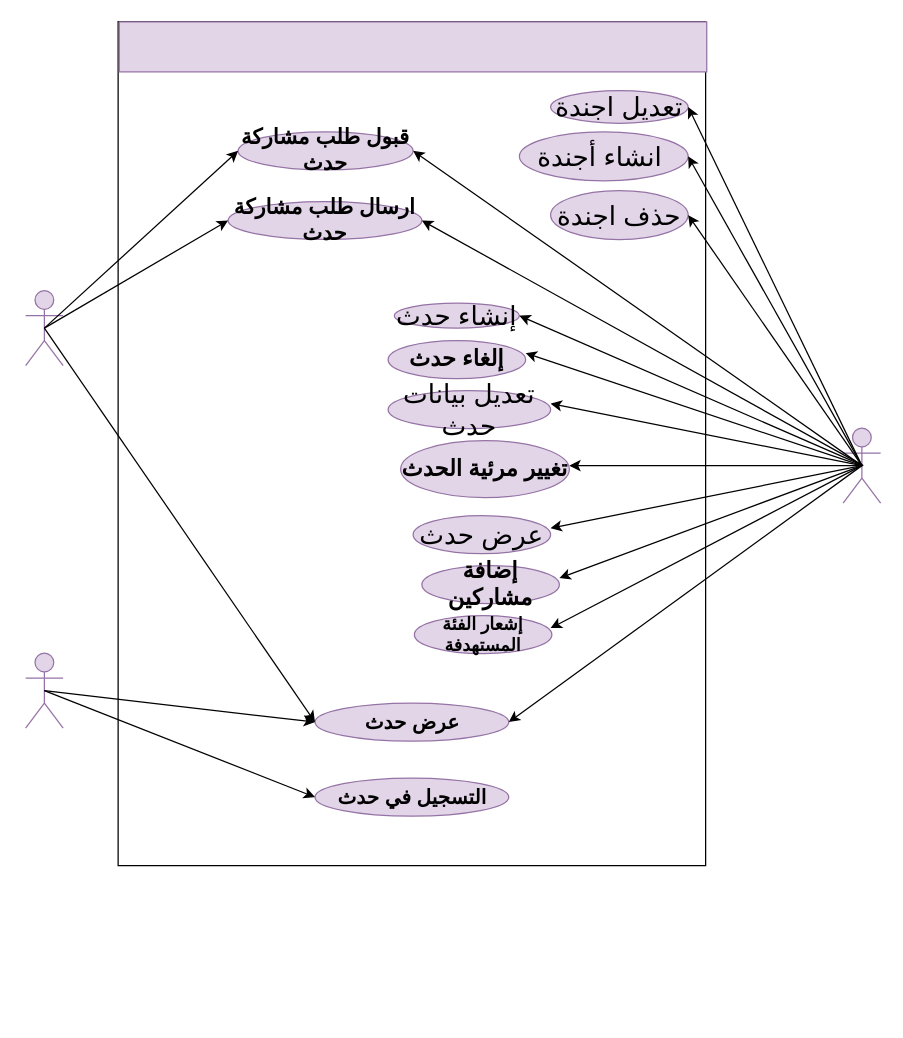
This 903x1038 diagram has some shape labels left out. The shapes that lost their labels are listed below. From the top down, each one's centre as x and y in pixels, then its label:
At point (412, 46): "مخطط حالات الإستخدام للدورة الثانية".
At point (43, 327): "مشارك".
At point (861, 465): "منظم".
At point (43, 690): "زائر".
